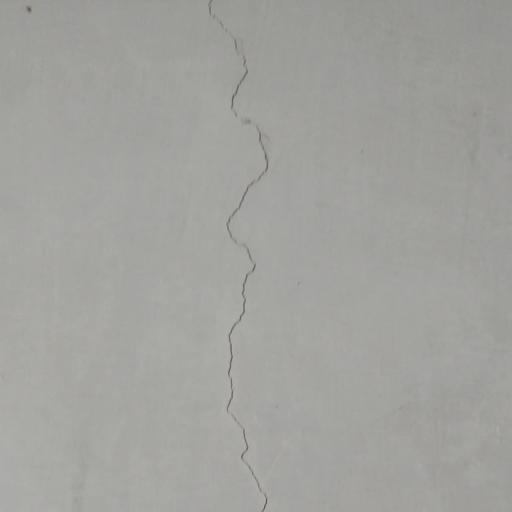minor_crack: (195, 0, 276, 512)
